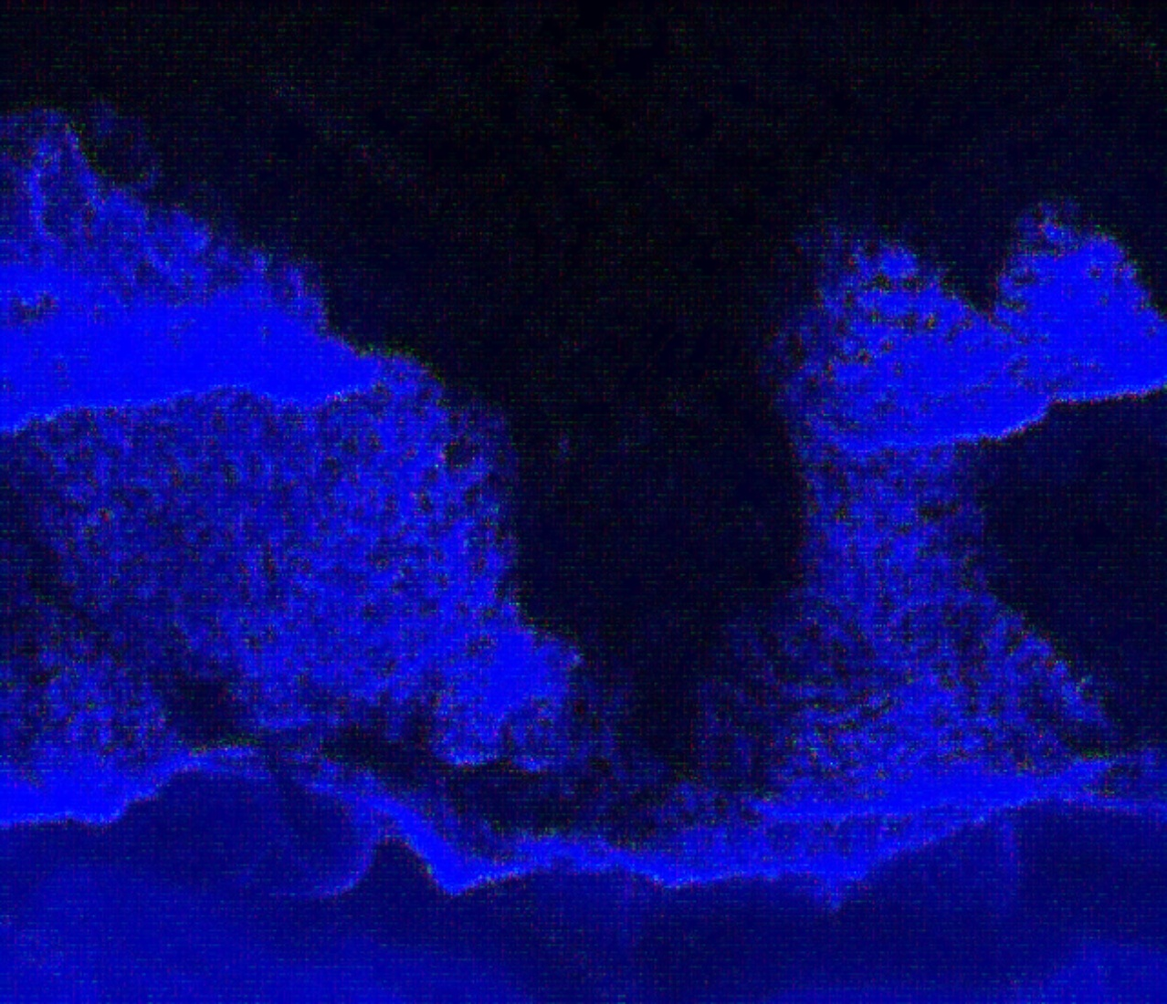rip_current: (373, 177, 901, 830)
